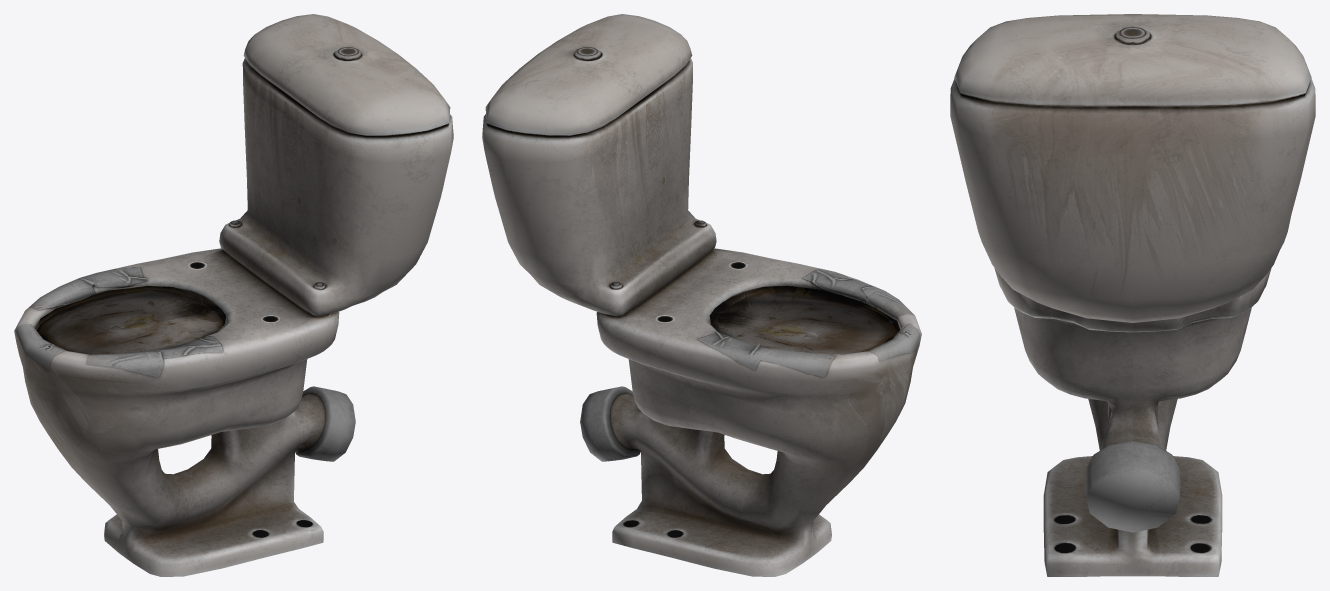
Rendered from Toilet.fbx.
The picture shows the model from 3 angles, left to right: view 1: azimuth 30°, elevation 25°; view 2: azimuth 150°, elevation 25°; view 3: azimuth 270°, elevation 25°; orthographic projection. The views are drawn at different scales.
Parts seen in each view (by area): view 1: Object_2, Object_2.001; view 2: Object_2, Object_2.001; view 3: Object_2.
Part boxes in pixels (box(x1,y1,x2,y2)): Object_2: box(14, 14, 453, 576); Object_2.001: box(36, 289, 225, 354); Object_2: box(482, 14, 921, 576); Object_2.001: box(709, 289, 899, 354); Object_2: box(950, 14, 1315, 576).
Size of the model in its own units: 757 by 851 by 485.
